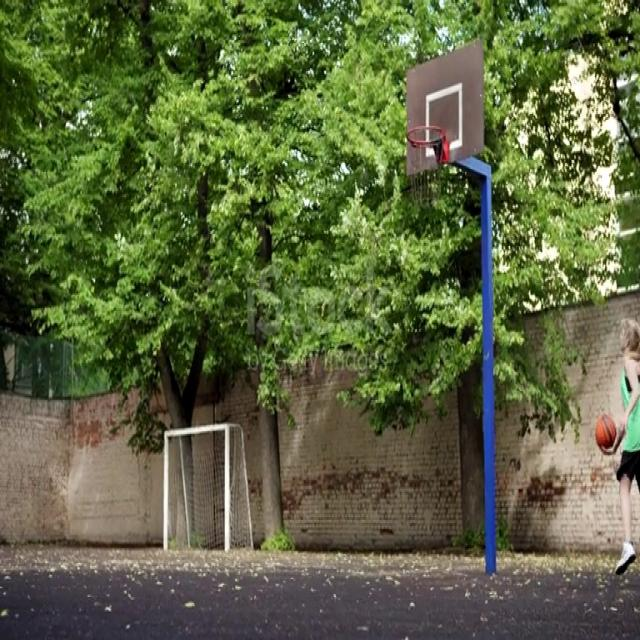ball: (594, 412, 617, 455)
